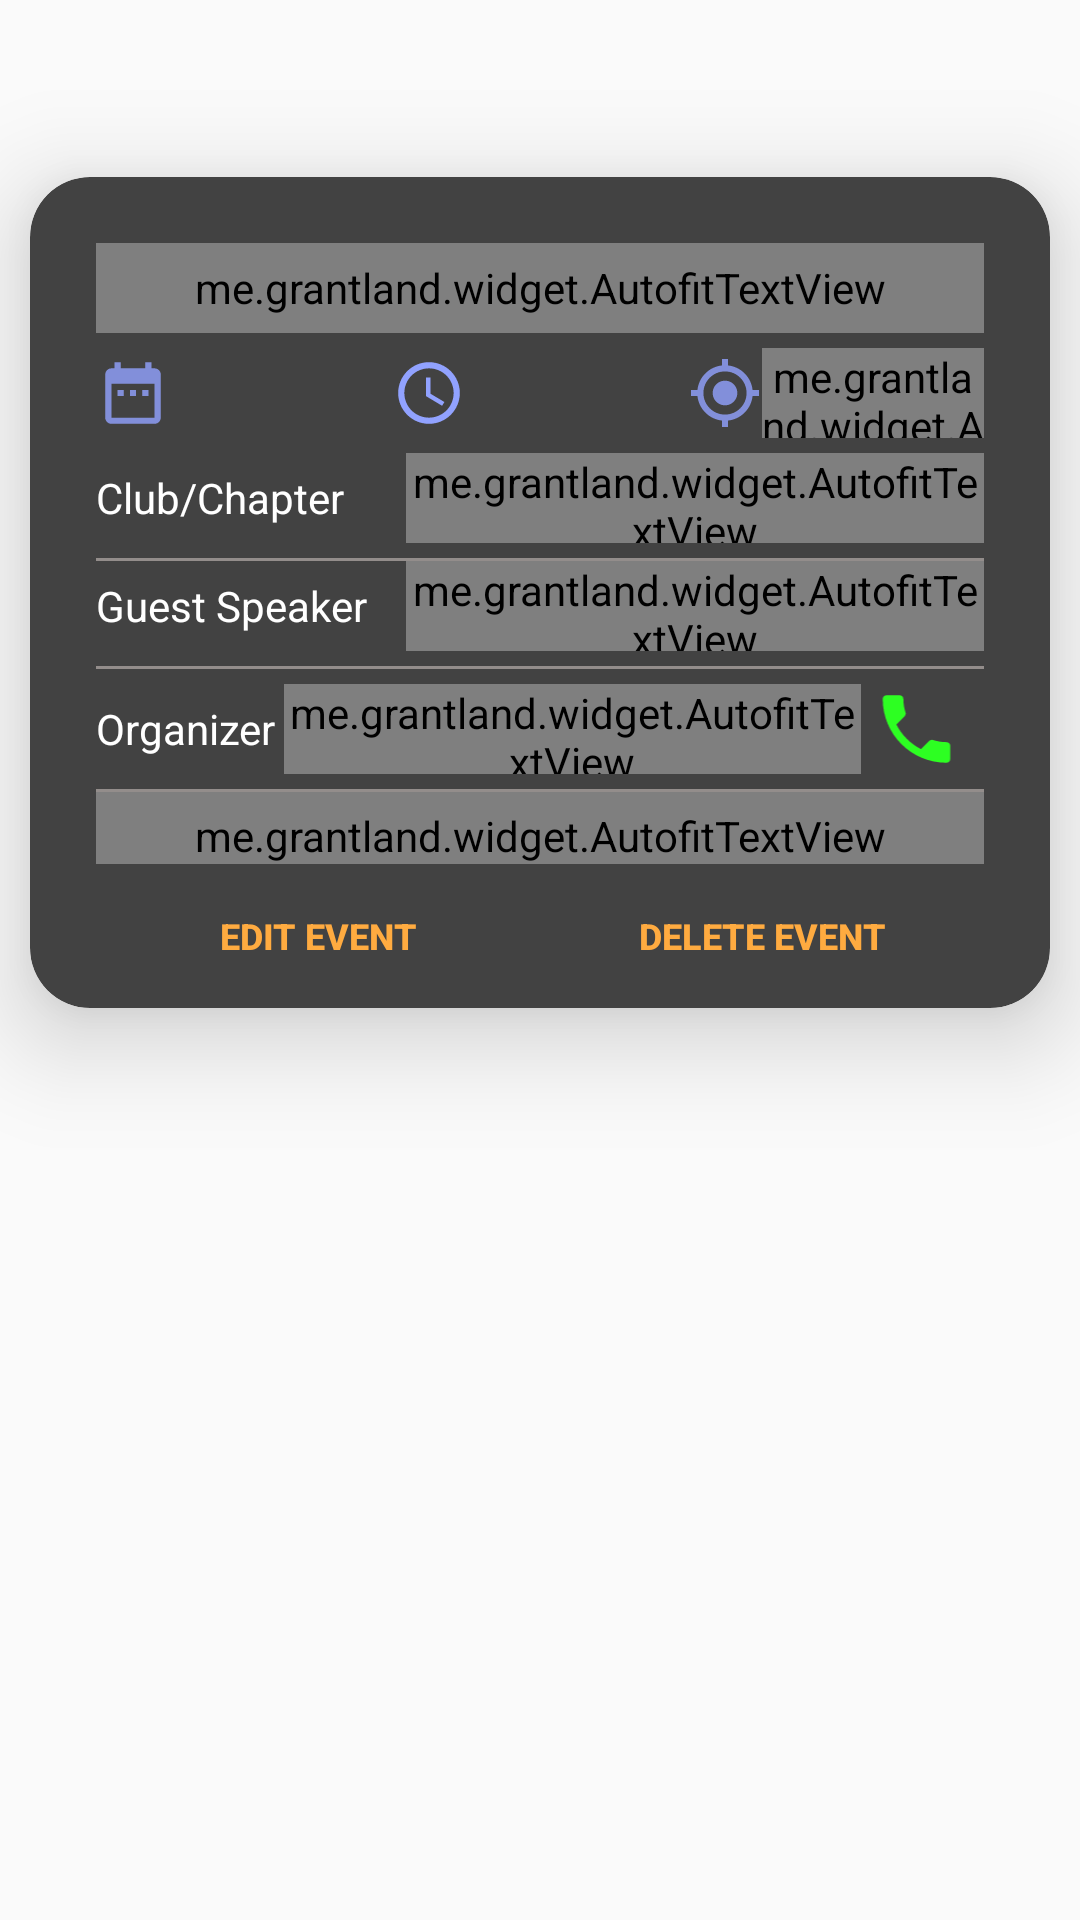

Icon bounding boxes for this 1080*1920 phone screenshot, format (x1, y1, x2, y2):
Call: (882, 695, 951, 763)
Date: (105, 362, 161, 424)
Time: (398, 362, 460, 424)
Venue: (691, 359, 759, 427)
